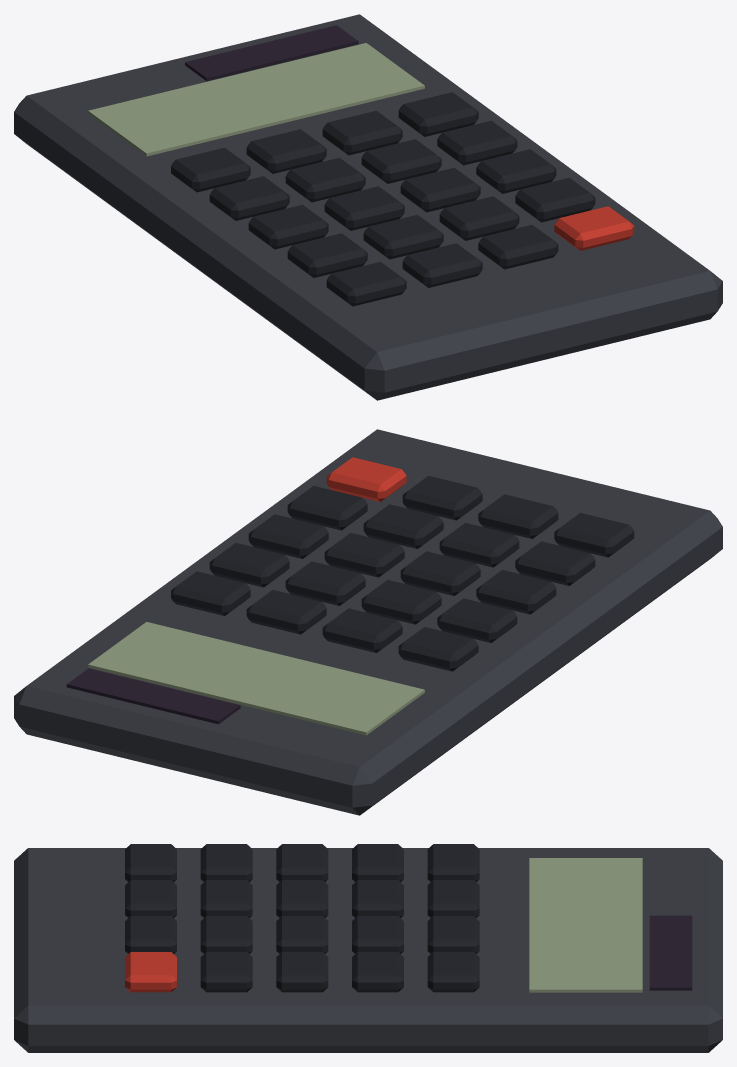
File: calculator.glb
3 views of the same model, one above another, from view 1: azimuth 30°, elevation 25°; view 2: azimuth 150°, elevation 25°; view 3: azimuth 270°, elevation 25° (orthographic). The views are drawn at different scales.
Visible parts, largest first — view 1: calculator; view 2: calculator; view 3: calculator.
Part boxes in pixels (x1=…): calculator: x1=14, y1=14, x2=722, y2=400; calculator: x1=14, y1=429, x2=722, y2=815; calculator: x1=14, y1=844, x2=722, y2=1052.
Bounding box in the file's own units: 0.085 × 0.015 × 0.15.
